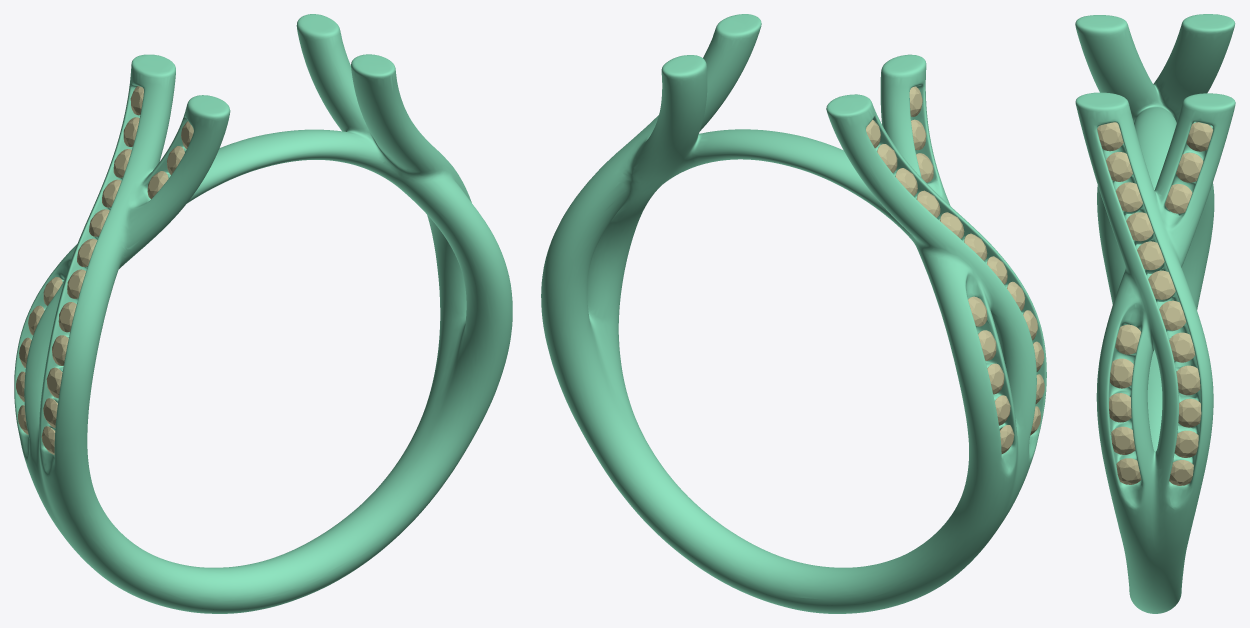
3 renders of one model, left to right at view 1: azimuth 30°, elevation 25°; view 2: azimuth 150°, elevation 25°; view 3: azimuth 270°, elevation 25°, orthographic. The views are drawn at different scales.
Visible parts, largest first — view 1: Metal02; view 2: Metal02; view 3: Metal02, Diamond_Gem.026, Diamond_Gem.029, Diamond_Gem.034, Diamond_Gem.035, Diamond_Gem.027, Diamond_Gem.023, Diamond_Gem.030, Diamond_Gem.024, Diamond_Gem.033, Diamond_Gem.025, Diamond_Gem.032 (+9 smaller).
Part boxes in pixels (bbox=[...]): Metal02: bbox=[14, 14, 512, 613]; Metal02: bbox=[541, 14, 1046, 613]; Metal02: bbox=[1075, 14, 1235, 613]; Diamond_Gem.026: bbox=[1176, 152, 1203, 182]; Diamond_Gem.029: bbox=[1106, 152, 1132, 181]; Diamond_Gem.034: bbox=[1169, 332, 1194, 362]; Diamond_Gem.035: bbox=[1176, 365, 1200, 395]; Diamond_Gem.027: bbox=[1165, 184, 1192, 213]; Diamond_Gem.023: bbox=[1110, 358, 1133, 388]; Diamond_Gem.030: bbox=[1115, 182, 1142, 211]; Diamond_Gem.024: bbox=[1115, 324, 1140, 354]; Diamond_Gem.033: bbox=[1159, 300, 1185, 330]; Diamond_Gem.025: bbox=[1186, 122, 1212, 151]; Diamond_Gem.032: bbox=[1148, 270, 1175, 299].
Bounding box in the file's own units: 20.95 × 23.33 × 6.4.
